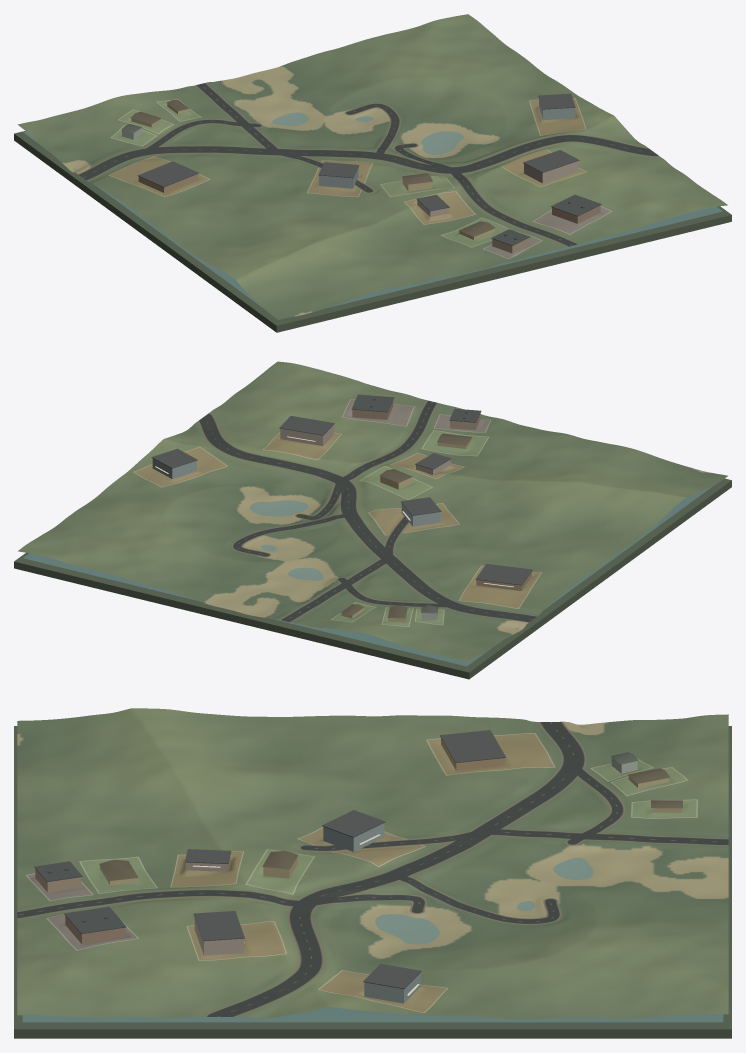
Rendered from procedural-city-lab-built-city-v1.glb.
3 views of the same model, one above another, from view 1: azimuth 30°, elevation 25°; view 2: azimuth 150°, elevation 25°; view 3: azimuth 270°, elevation 25° (orthographic). The views are drawn at different scales.
Visible parts, largest first — view 1: Ground with roads and lots, Terrain base, Water, retail 4, retail 2, mixed-block 5, service 3, retail 1, mixed-block 9; view 2: Ground with roads and lots, Terrain base, Water, retail 4, retail 2, retail 1, service 3, mixed-block 5, mixed-block 9, retail 7; view 3: Ground with roads and lots, Terrain base, Water, retail 2, retail 4, service 3, retail 1, mixed-block 5, mixed-block 9, retail 7, duplex 6, duplex 8 (+1 smaller).
Boxes of the visible parts, x1=… form: Ground with roads and lots: x1=17, y1=14, x2=727, y2=319; Terrain base: x1=14, y1=131, x2=731, y2=332; Water: x1=23, y1=103, x2=722, y2=319; retail 4: x1=523, y1=150, x2=579, y2=183; retail 2: x1=137, y1=161, x2=198, y2=192; mixed-block 5: x1=551, y1=194, x2=601, y2=223; service 3: x1=318, y1=162, x2=359, y2=188; retail 1: x1=538, y1=93, x2=575, y2=119; mixed-block 9: x1=491, y1=229, x2=529, y2=253; Ground with roads and lots: x1=18, y1=361, x2=727, y2=661; Terrain base: x1=14, y1=478, x2=731, y2=679; Water: x1=23, y1=485, x2=713, y2=666; retail 4: x1=279, y1=416, x2=334, y2=445; retail 2: x1=475, y1=564, x2=532, y2=590; retail 1: x1=151, y1=448, x2=197, y2=478; service 3: x1=401, y1=497, x2=441, y2=526; mixed-block 5: x1=351, y1=394, x2=394, y2=419; mixed-block 9: x1=449, y1=408, x2=481, y2=430; retail 7: x1=415, y1=453, x2=451, y2=474; Ground with roads and lots: x1=17, y1=708, x2=728, y2=1019; Terrain base: x1=14, y1=726, x2=731, y2=1038; Water: x1=22, y1=726, x2=723, y2=1022; retail 2: x1=440, y1=730, x2=505, y2=770; retail 4: x1=193, y1=911, x2=244, y2=955; service 3: x1=322, y1=810, x2=385, y2=851; retail 1: x1=363, y1=963, x2=421, y2=1003; mixed-block 5: x1=64, y1=906, x2=126, y2=944; mixed-block 9: x1=34, y1=861, x2=82, y2=892; retail 7: x1=185, y1=849, x2=231, y2=871; duplex 6: x1=262, y1=851, x2=298, y2=878; duplex 8: x1=99, y1=859, x2=138, y2=885.
Bounding box in the file's own units: 414 × 27.18 × 414.
Materials: 32 (1 with a texture image).
